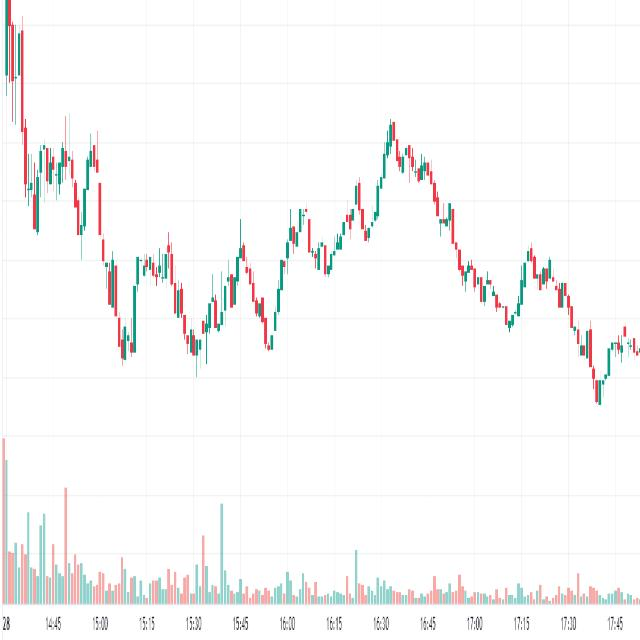rectangle: (110, 232, 275, 367), (22, 134, 107, 244)
